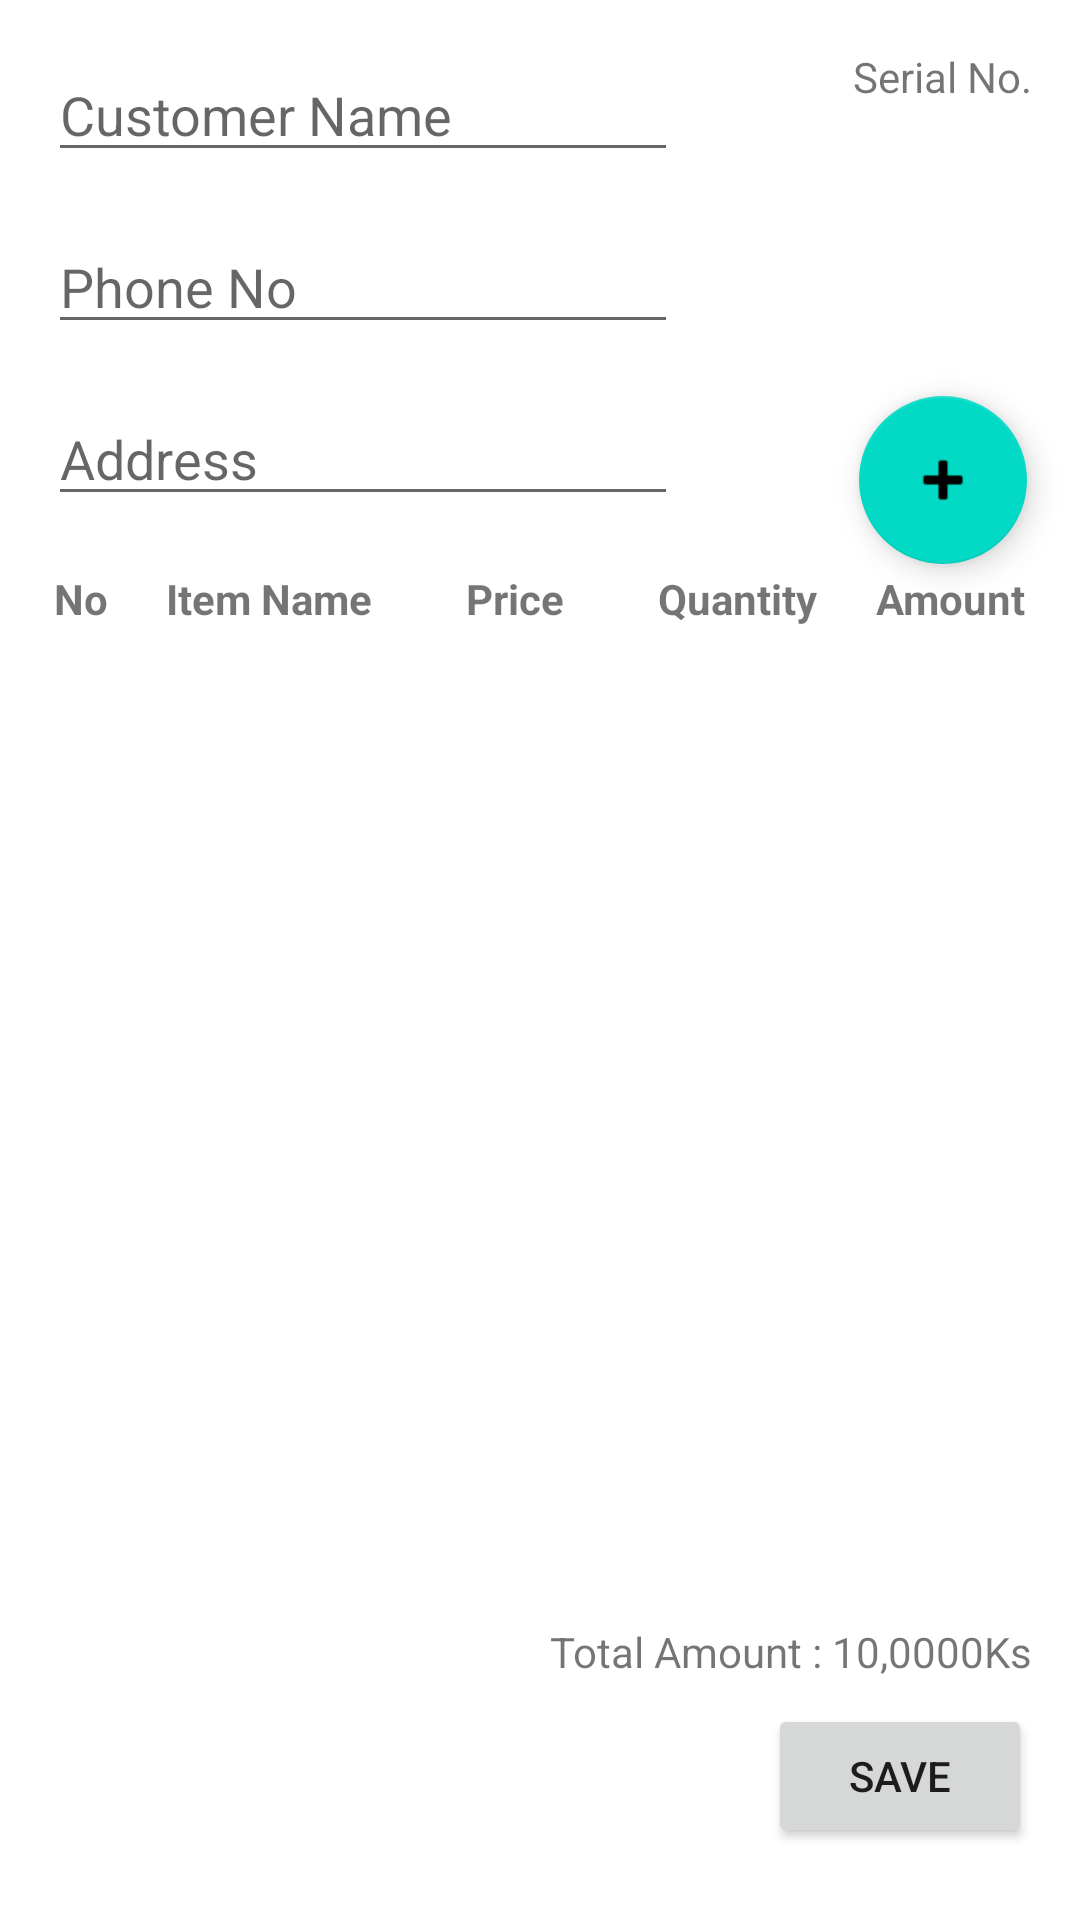

Icon bounding boxes for this 1080x1920 phone screenshot, format (x1, y1, x2, y2):
add: (859, 396, 1027, 564)
